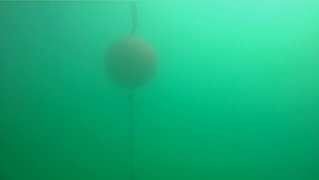buoy: (104, 37, 158, 88)
